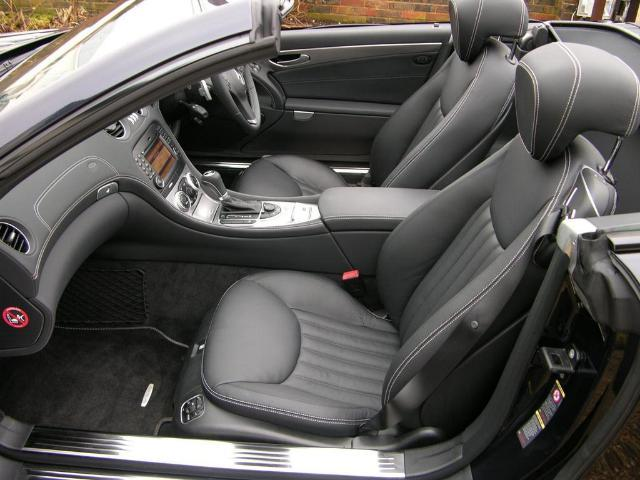SafeDriving: (0, 206, 36, 260)
Seatbelt: (358, 208, 562, 436)
